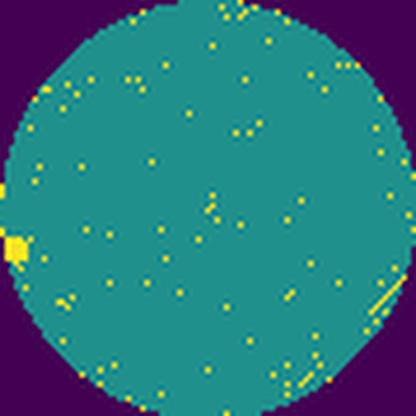Loc: (3, 234, 34, 264)
